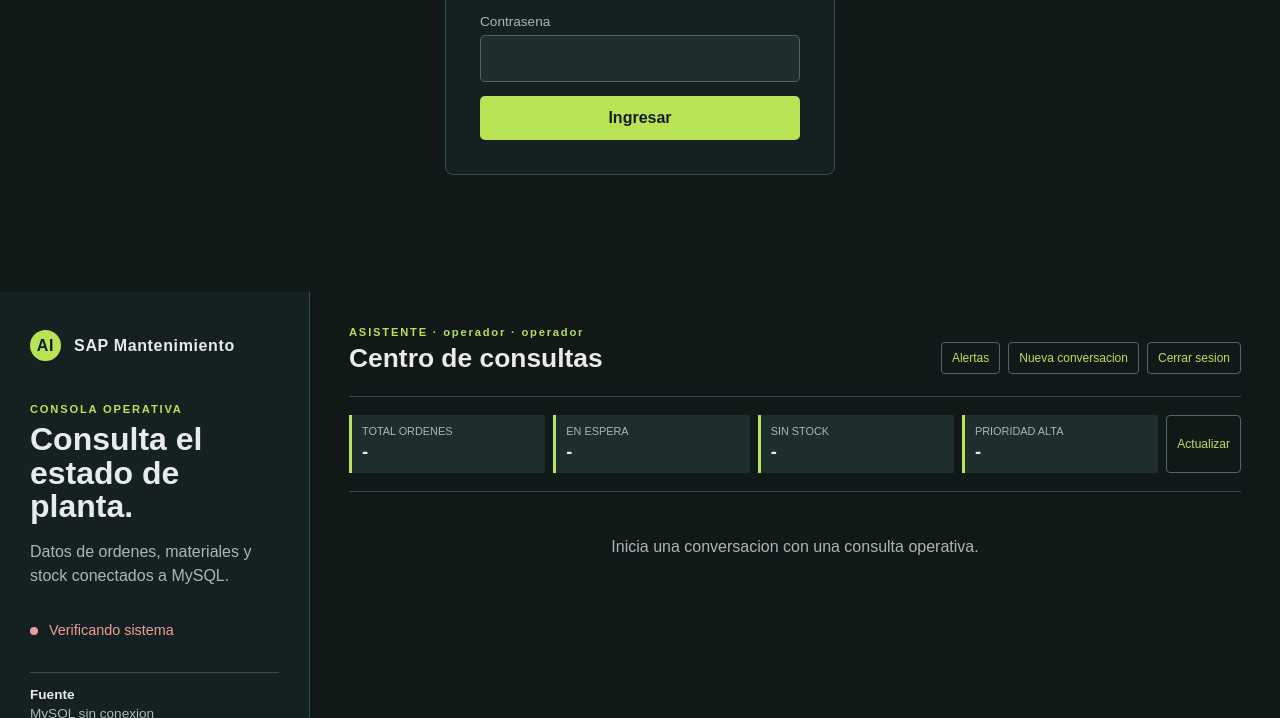
Test: App › muestra y permite atender alertas pendientes
(page scrolled)
Click the button "Alertas" at (971, 358), box 941,342 -> 1000,374
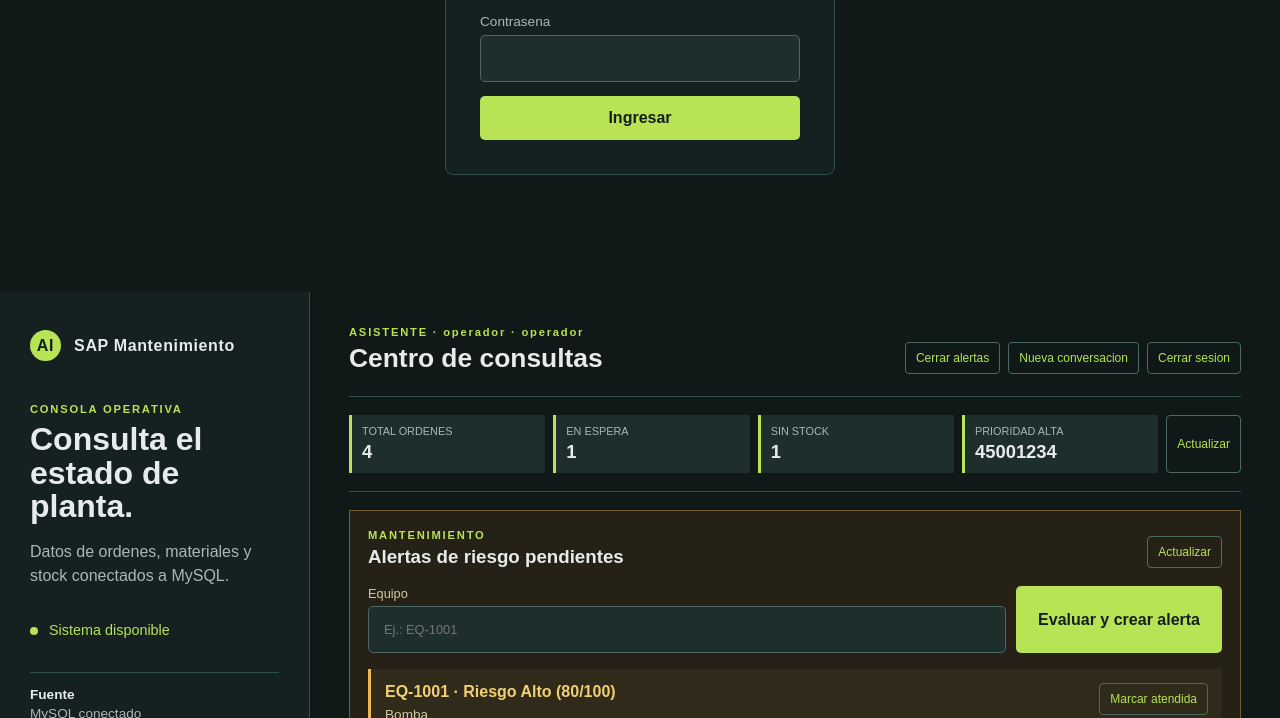
expect the text "EQ-1001 · Riesgo Alto (80/100)" is shown: met, box 385,683 -> 616,700
Click the button "Marcar atendida" at (1154, 699), box 1099,683 -> 1208,715
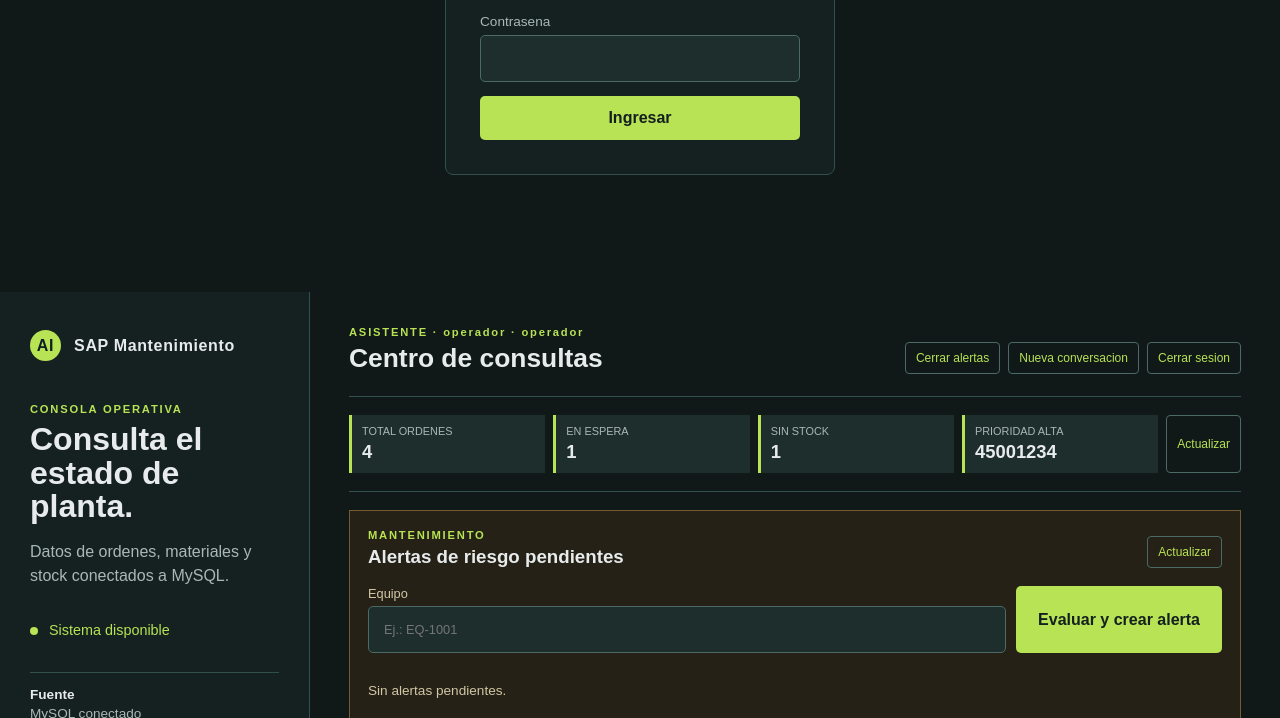
expect the text "Sin alertas pendientes." is shown: met, box 368,683 -> 506,698
